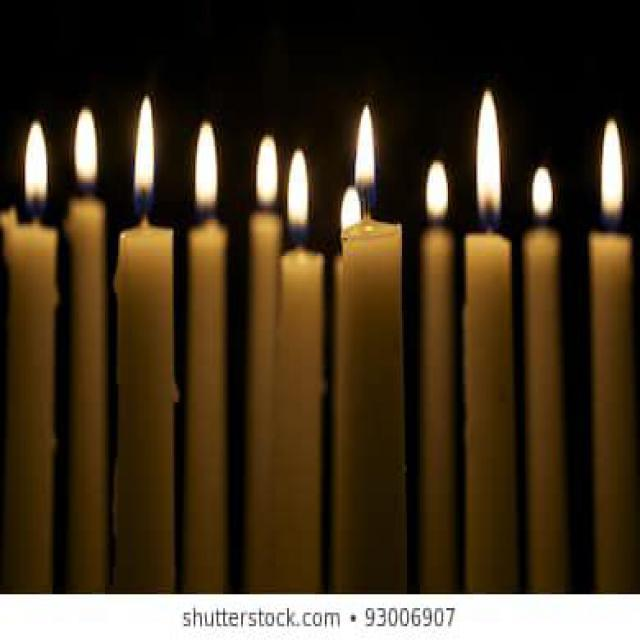Fire: (340, 104, 375, 225), (476, 90, 502, 228), (132, 96, 154, 215), (601, 120, 623, 230), (24, 120, 48, 214), (196, 123, 218, 214), (287, 151, 309, 242), (256, 135, 278, 215), (75, 110, 96, 188), (426, 160, 448, 222), (532, 166, 552, 223)
